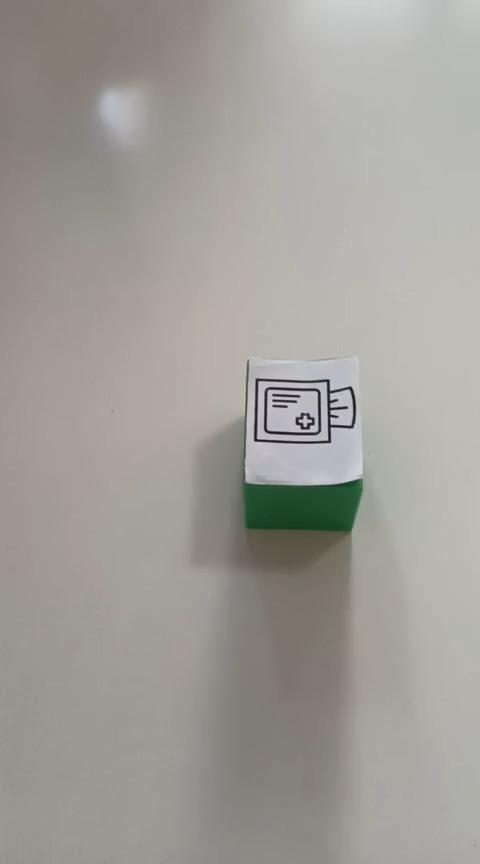Gauze: (241, 354, 364, 532)
